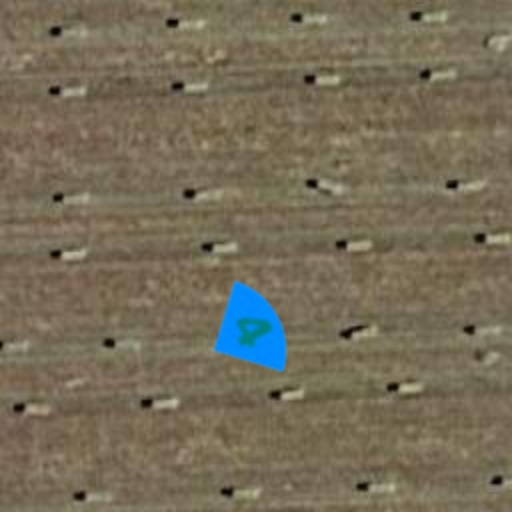quarter_circle: (186, 264, 318, 396)
